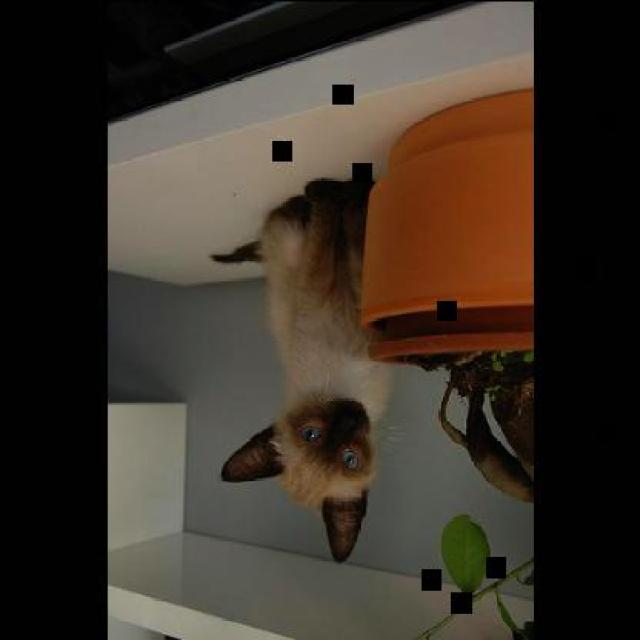unauthorized: (208, 175, 398, 563)
